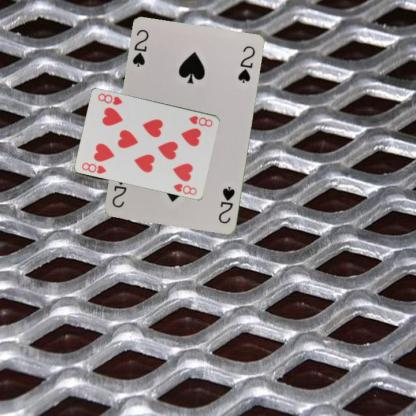2s: (216, 184, 236, 225), (130, 27, 150, 68)
8h: (79, 160, 108, 175), (186, 113, 214, 128)
